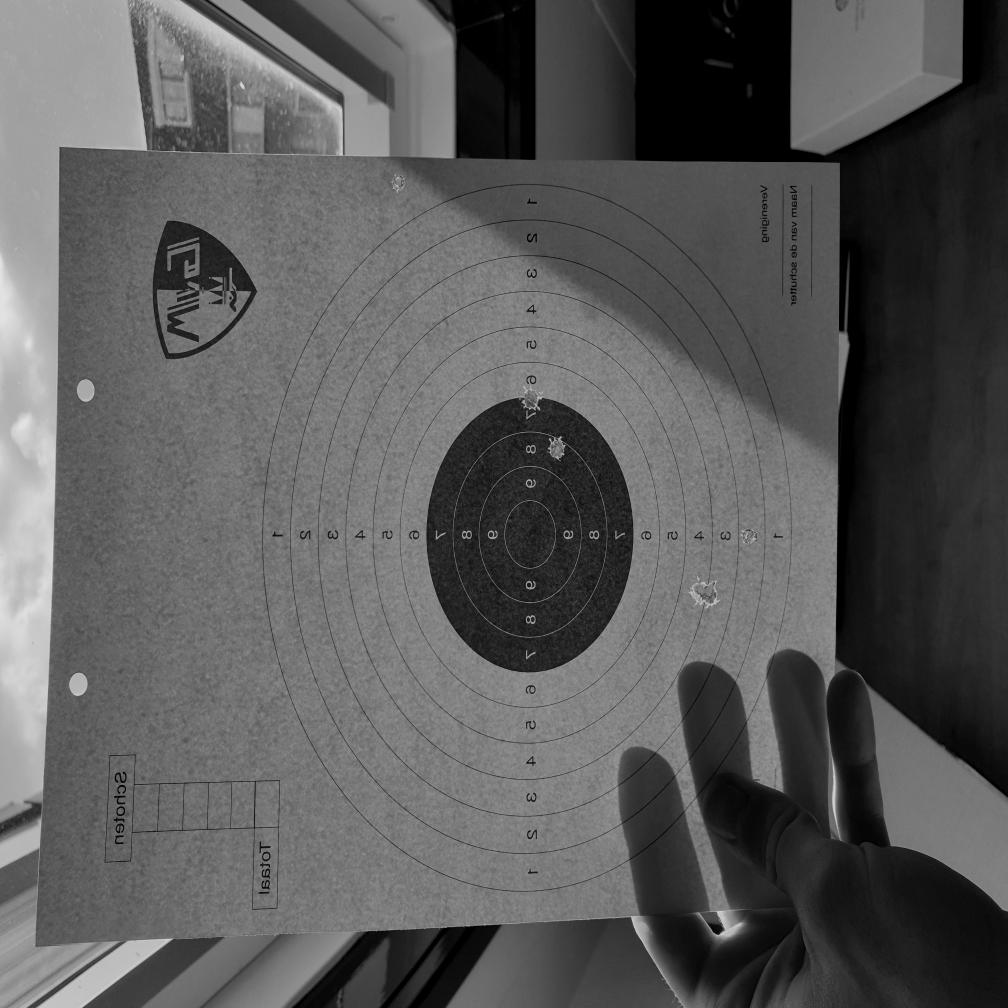0: (390, 174, 405, 194)
2: (740, 527, 758, 546)
4: (688, 579, 704, 608), (704, 580, 718, 611)
7: (519, 386, 542, 412)
8: (547, 435, 566, 460)
Target: (261, 177, 804, 900)
black_contour: (426, 397, 634, 672)
